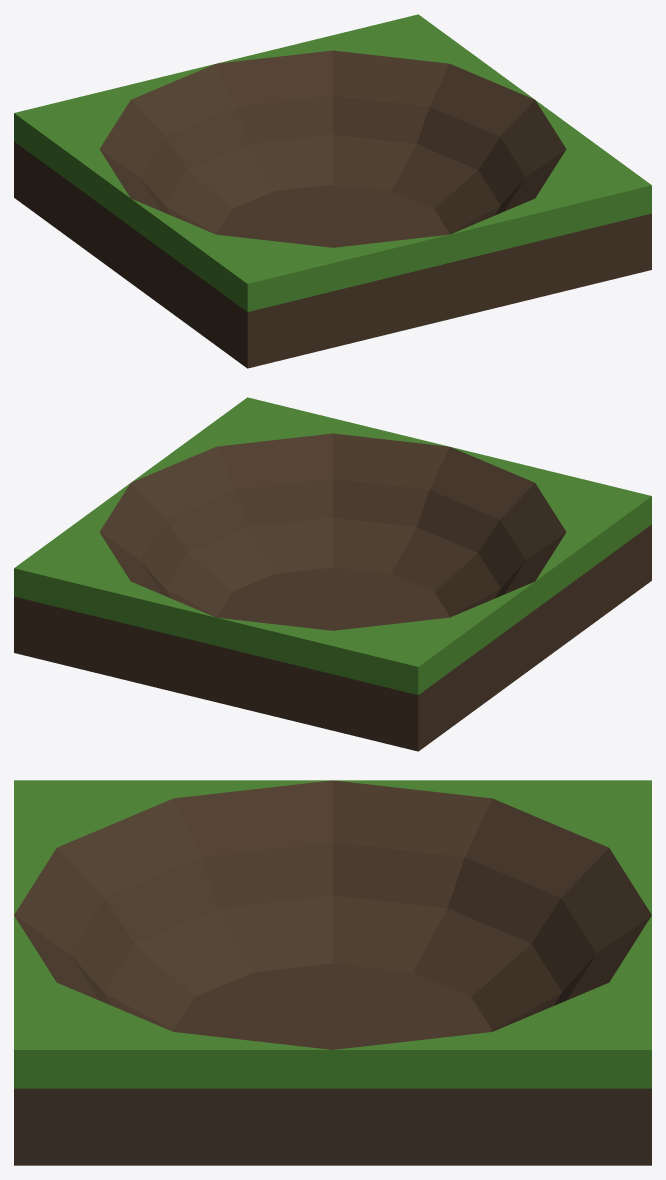
File: tile-hole-big.glb
3 views of the same model, one above another, from view 1: azimuth 30°, elevation 25°; view 2: azimuth 150°, elevation 25°; view 3: azimuth 270°, elevation 25° (orthographic). The views are drawn at different scales.
Parts seen in each view (by area): view 1: tile-hole-big; view 2: tile-hole-big; view 3: tile-hole-big.
Boxes of the visible parts, <box> form: tile-hole-big: <box>14,14,651,368</box>; tile-hole-big: <box>14,397,651,751</box>; tile-hole-big: <box>14,780,651,1165</box>.
Size of the model in its own units: 30 by 6 by 30.
Materials: 1 (1 with a texture image).
